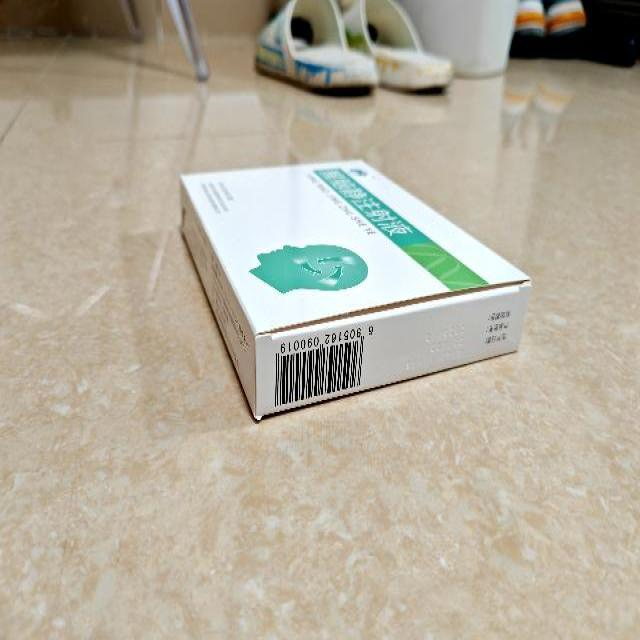box: (178, 158, 532, 420)
